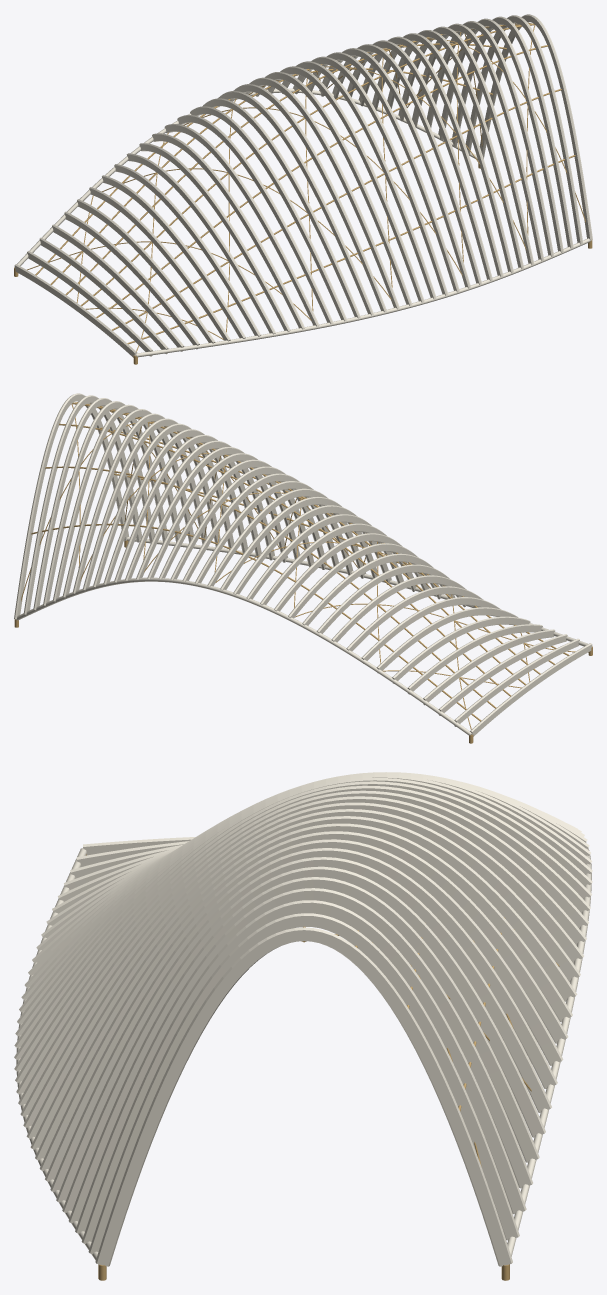
Rendered from journey-parametric-structure.glb.
3 views of the same model, one above another, from view 1: azimuth 30°, elevation 25°; view 2: azimuth 150°, elevation 25°; view 3: azimuth 270°, elevation 25° (orthographic). The views are drawn at different scales.
Visible parts, largest first — view 1: 01 · 37 porcelain ribs and swept edge chords, 02 · Champagne stringers, diagonal ties and feet; view 2: 01 · 37 porcelain ribs and swept edge chords, 02 · Champagne stringers, diagonal ties and feet; view 3: 01 · 37 porcelain ribs and swept edge chords, 02 · Champagne stringers, diagonal ties and feet.
Boxes of the visible parts, <box> form: 01 · 37 porcelain ribs and swept edge chords: <box>14,14,592,357</box>; 02 · Champagne stringers, diagonal ties and feet: <box>14,22,592,364</box>; 01 · 37 porcelain ribs and swept edge chords: <box>14,393,592,736</box>; 02 · Champagne stringers, diagonal ties and feet: <box>14,402,592,743</box>; 01 · 37 porcelain ribs and swept edge chords: <box>14,772,592,1266</box>; 02 · Champagne stringers, diagonal ties and feet: <box>86,854,559,1280</box>.
Bounding box in the file's own units: 6.25 × 2.5 × 3.68.
